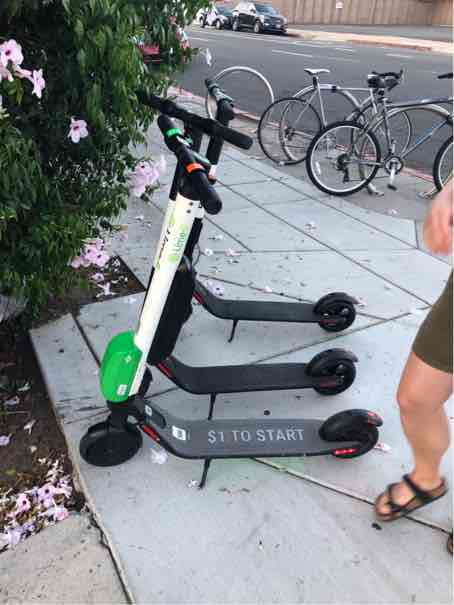scooter: (81, 121, 387, 475)
